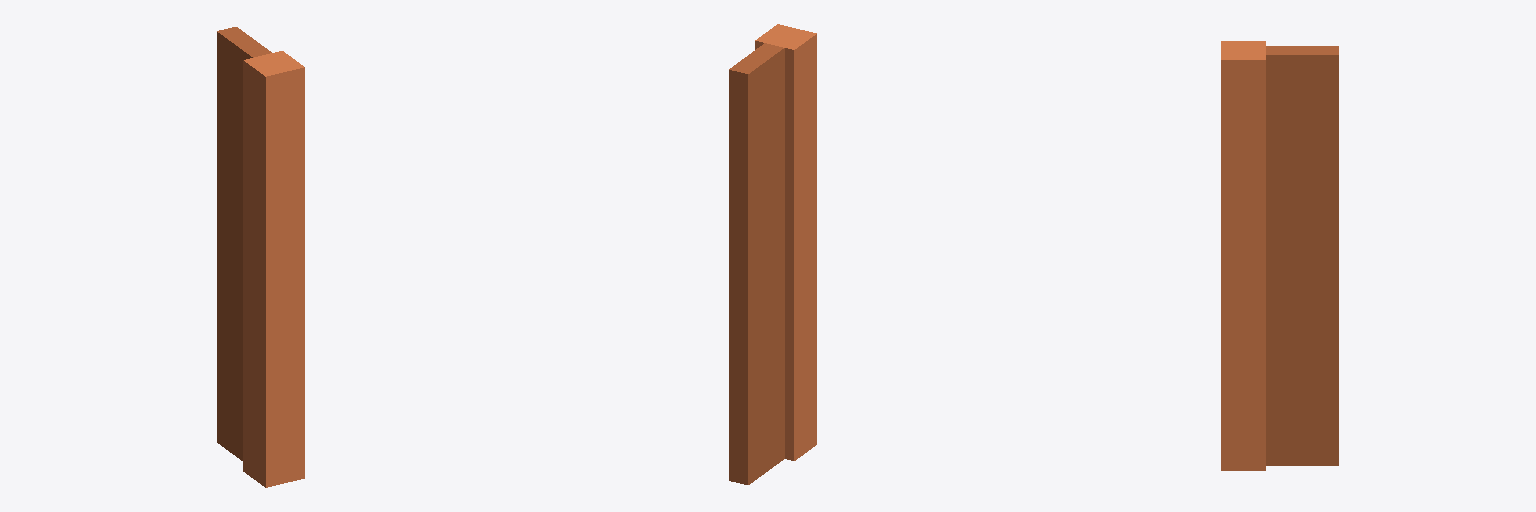
The model's file is wallWoodSide.obj.
3 views of the same model, side by side, from view 1: azimuth 30°, elevation 25°; view 2: azimuth 150°, elevation 25°; view 3: azimuth 270°, elevation 25° (orthographic).
Visible parts, largest first — view 1: wallWoodSide; view 2: wallWoodSide; view 3: wallWoodSide.
Boxes of the visible parts, <box> form: wallWoodSide: <box>217,27,304,487</box>; wallWoodSide: <box>729,24,816,484</box>; wallWoodSide: <box>1221,41,1338,470</box>.
Size of the model in its own units: 0.1 by 1 by 0.26.